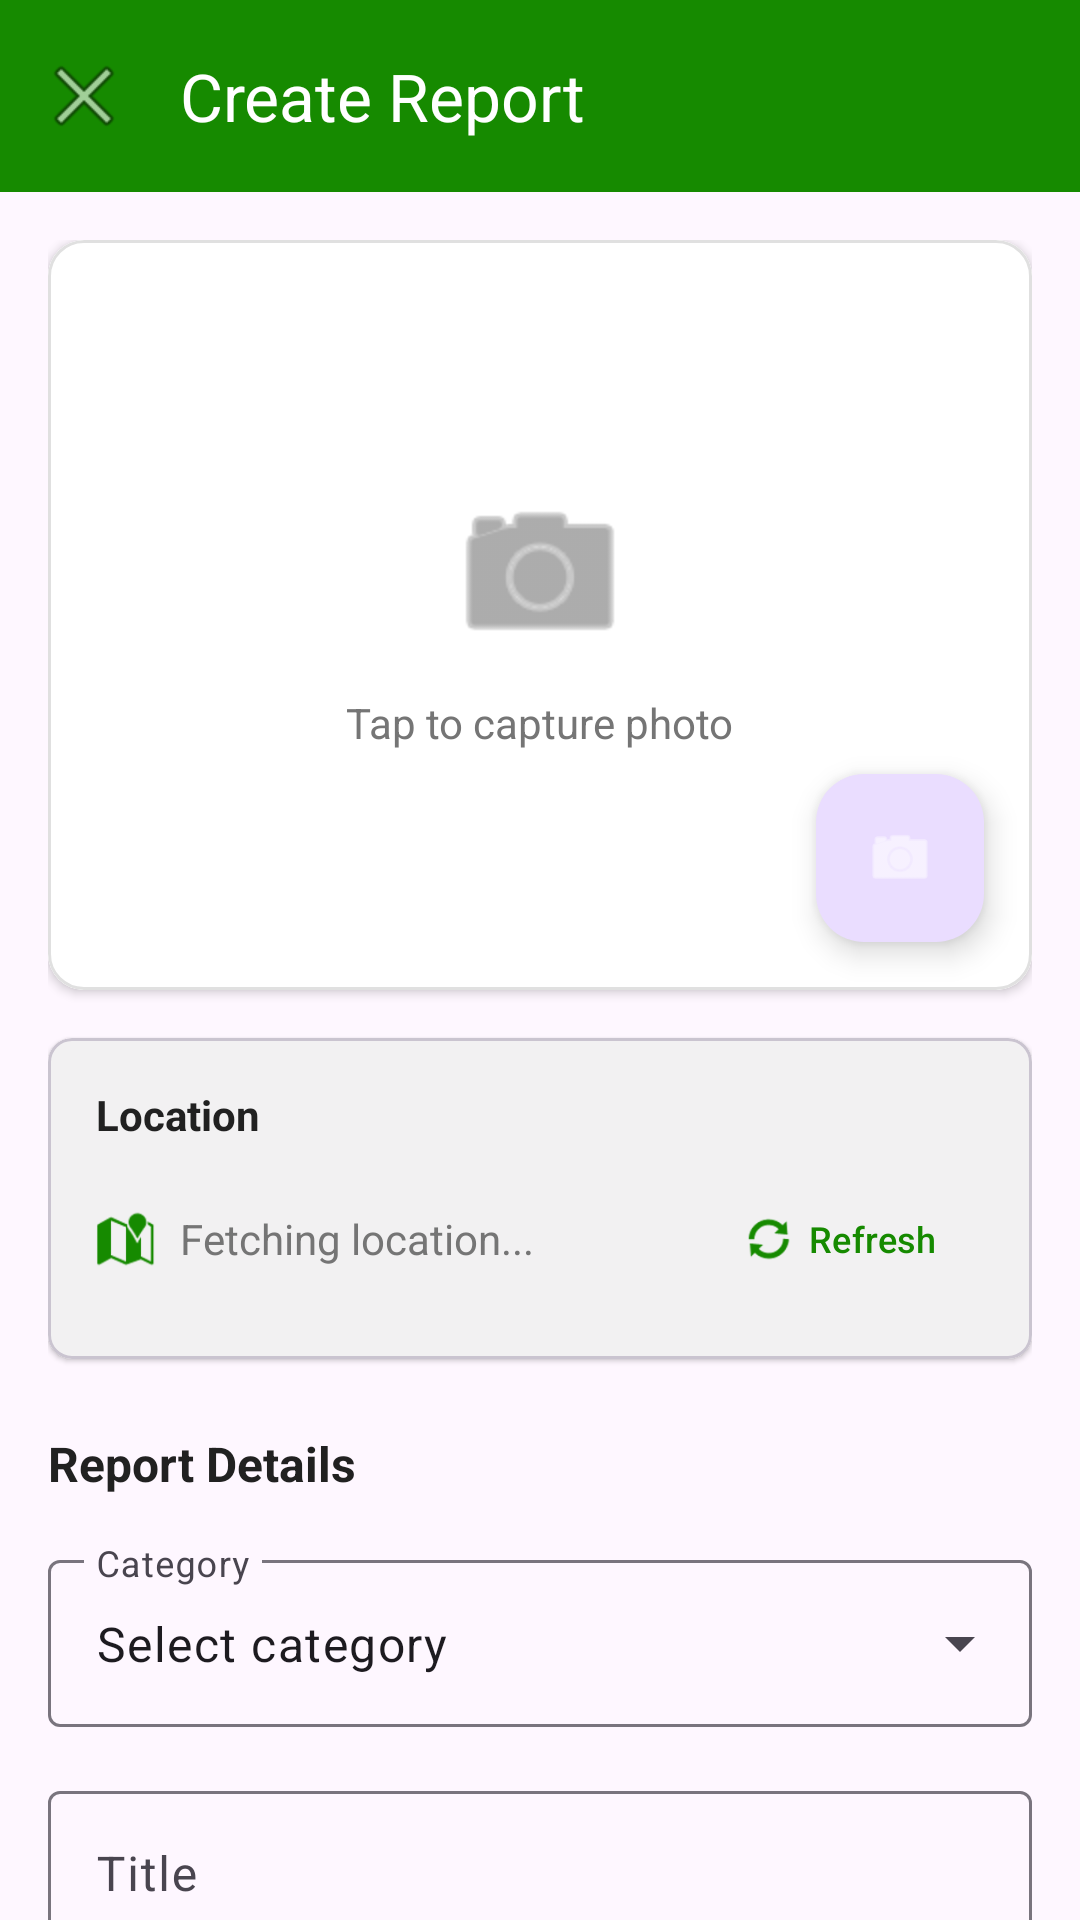

Icon click points for this 1080*1920 phone screenshot, format (x,y):
Camera: (540,571)
GPS: (125,1238)
